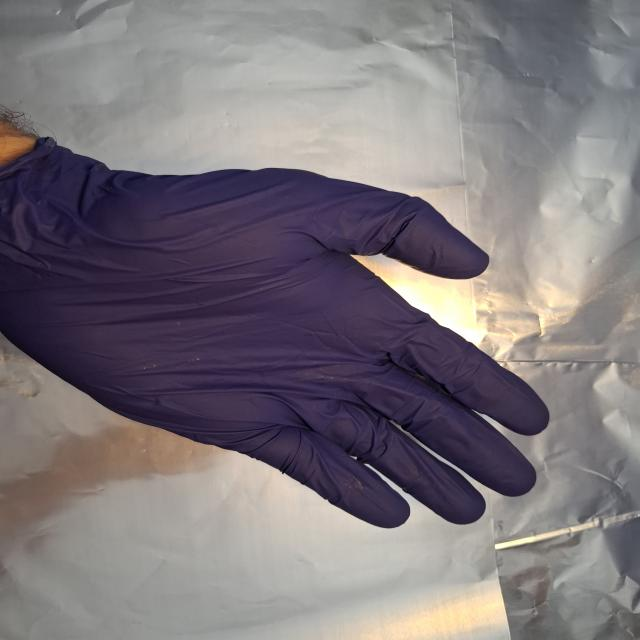glove_on: (0, 134, 557, 532)
